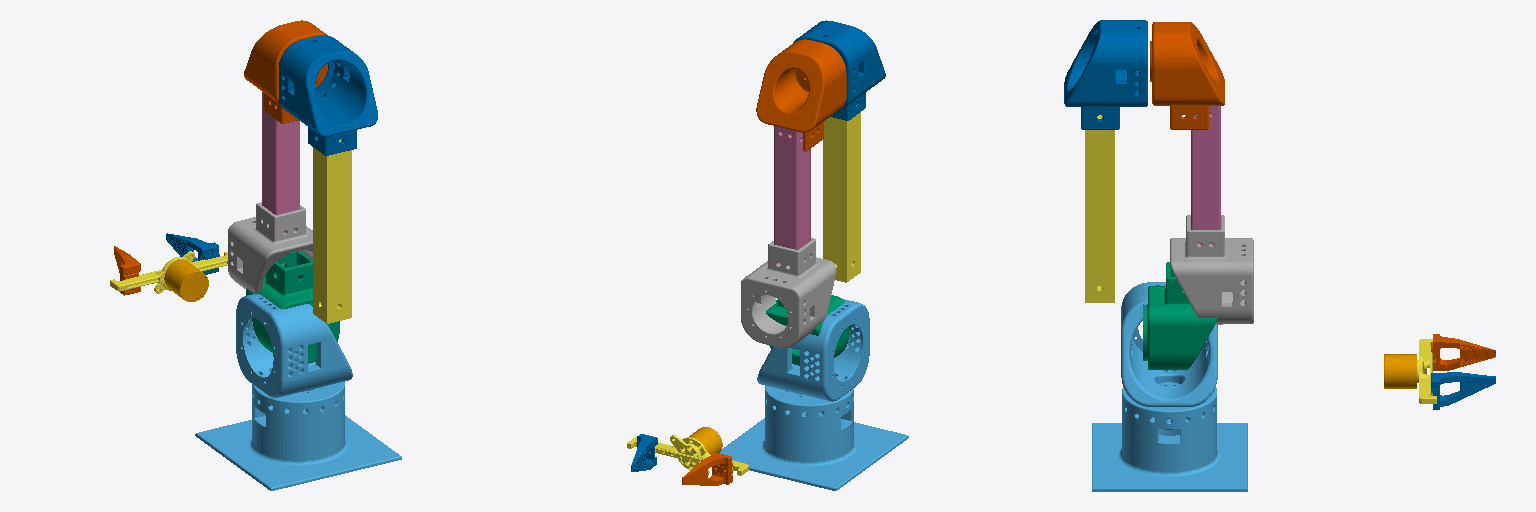
robot.urdf — my_robot_with_cage:
<?xml version='1.0' encoding='utf-8'?>
<robot name="my_robot_with_cage">
  
  <link name="cage">
    <inertial>
      <origin xyz="0 0 0.5" rpy="0 0 0" />
      <mass value="1.0" />
      <inertia ixx="0.177000" ixy="0.000000" ixz="0.000000" iyy="0.177000" iyz="0.000000" izz="0.187000" />
    </inertial>
    <visual>
      <origin xyz="0 0 0" rpy="0 0 0" />
      <geometry>
        <mesh filename="package://sim/meshes/Cage.stl" scale="0.001 0.001 0.001" />
      </geometry>
    </visual>
    <collision>
      <origin xyz="0 0 0" rpy="0 0 0" />
      <geometry>
        <mesh filename="package://sim/meshes/Cage.stl" scale="0.001 0.001 0.001" />
      </geometry>
    </collision>
  </link>

  <link name="base">
    <inertial>
      <origin xyz="-0.000002 0.000000 0.035386" rpy="0 0 0"/>
      <mass value="0.685513"/>
      <inertia ixx="0.002363" ixy="-0.000000" ixz="0.000000" iyy="0.002295" iyz="-0.000000" izz="0.003326"/>
    </inertial>
    <visual>
      <geometry>
        <mesh filename="package://sim/meshes/base.stl" scale="0.001 0.001 0.001" />
      </geometry>
    </visual>
    <collision>
      <geometry>
        <mesh filename="package://sim/meshes/base.stl" scale="0.001 0.001 0.001" />
      </geometry>
    </collision>
  </link>

  <link name="rs02_1">
    <inertial>
      <origin xyz="0.000000000000 0.000000000000 -0.018300000000" rpy="0 0 0" />
      <mass value="0.411618" />
      <inertia ixx="0.000201" ixy="0.000000" ixz="0.000000" iyy="0.000200" iyz="0.000000" izz="0.000287" />
    </inertial>
    <visual>
      <geometry>
        <mesh filename="package://sim/meshes/RS02(0.0.0).stl" scale="0.001 0.001 0.001" />
      </geometry>
    </visual>
    <collision>
      <geometry>
        <mesh filename="package://sim/meshes/RS02(0.0.0).stl" scale="0.001 0.001 0.001" />
      </geometry>
    </collision>
  </link>

  <link name="rs02_2">
    <inertial>
      <origin xyz="0.000000000000 0.000000000000 -0.018300000000" rpy="0 0 0" />
      <mass value="0.411618" />
      <inertia ixx="0.000201" ixy="0.000000" ixz="0.000000" iyy="0.000200" iyz="0.000000" izz="0.000287" />
    </inertial>
    <visual>
      <geometry>
        <mesh filename="package://sim/meshes/RS02(0.0.0).stl" scale="0.001 0.001 0.001" />
      </geometry>
    </visual>
    <collision>
      <geometry>
        <mesh filename="package://sim/meshes/RS02(0.0.0).stl" scale="0.001 0.001 0.001" />
      </geometry>
    </collision>
  </link>

  <link name="rs02_3">
    <inertial>
      <origin xyz="0.000000000000 0.000000000000 -0.018300000000" rpy="0 0 0" />
      <mass value="0.411618" />
      <inertia ixx="0.000201" ixy="0.000000" ixz="0.000000" iyy="0.000200" iyz="0.000000" izz="0.000287" />
    </inertial>
    <visual>
      <geometry>
        <mesh filename="package://sim/meshes/RS02(0.0.0).stl" scale="0.001 0.001 0.001" />
      </geometry>
    </visual>
    <collision>
      <geometry>
        <mesh filename="package://sim/meshes/RS02(0.0.0).stl" scale="0.001 0.001 0.001" />
      </geometry>
    </collision>
  </link>

  <link name="rs03">
    <inertial>
      <origin xyz="0.000000000000 0.000000000000 -0.021500000000" rpy="0 0 0" />
      <mass value="0.924357" />
      <inertia ixx="0.000880" ixy="-0.000001" ixz="-0.000007" iyy="0.000920" iyz="-0.000001" izz="0.001201" />
    </inertial>
    <visual>
      <geometry>
        <mesh filename="package://sim/meshes/RS03(0.0.0).stl" scale="0.001 0.001 0.001" />
      </geometry>
    </visual>
    <collision>
      <geometry>
        <mesh filename="package://sim/meshes/RS03(0.0.0).stl" scale="0.001 0.001 0.001" />
      </geometry>
    </collision>
  </link>

  <link name="rs00_1">
    <inertial>
      <origin xyz="0.000000000000 0.000000000000 -0.020800000000" rpy="0 0 0" />
      <mass value="0.311841" />
      <inertia ixx="0.000130" ixy="0.000000" ixz="0.000000" iyy="0.000129" iyz="0.000000" izz="0.000127" />
    </inertial>
    <visual>
      <geometry>
        <mesh filename="package://sim/meshes/RS00.stl" scale="0.001 0.001 0.001" />
      </geometry>
    </visual>
    <collision>
      <geometry>
        <mesh filename="package://sim/meshes/RS00.stl" scale="0.001 0.001 0.001" />
      </geometry>
    </collision>
  </link>

  <link name="rs00_2">
    <inertial>
      <origin xyz="0.000000000000 0.000000000000 -0.020800000000" rpy="0 0 0" />
      <mass value="0.311841" />
      <inertia ixx="0.000130" ixy="0.000000" ixz="0.000000" iyy="0.000129" iyz="0.000000" izz="0.000127" />
    </inertial>
    <visual>
      <geometry>
        <mesh filename="package://sim/meshes/RS00.stl" scale="0.001 0.001 0.001" />
      </geometry>
    </visual>
    <collision>
      <geometry>
        <mesh filename="package://sim/meshes/RS00.stl" scale="0.001 0.001 0.001" />
      </geometry>
    </collision>
  </link>

  <link name="rs05">
    <inertial>
      <origin xyz="0.000000000000 0.000000000000 -0.018300000000" rpy="0 0 0" />
      <mass value="0.191090" />
      <inertia ixx="0.000082" ixy="0.000000" ixz="0.000000" iyy="0.000082" iyz="0.000000" izz="0.000068" />
    </inertial>
    <visual>
      <geometry>
        <mesh filename="package://sim/meshes/RS05.stl" scale="0.001 0.001 0.001" />
      </geometry>
    </visual>
    <collision>
      <geometry>
        <mesh filename="package://sim/meshes/RS05.stl" scale="0.001 0.001 0.001" />
      </geometry>
    </collision>
  </link>

  <link name="joint1">
    <inertial>
    <origin xyz="0.006324553 0.000004125 -0.057702230" rpy="0 0 0" />
    <mass value="0.639808643" />
    <inertia ixx="0.002439844" ixy="0.000000065" ixz="-0.000218516" iyy="0.001857400" iyz="0.000000217" izz="0.001602965" />
    </inertial>
    <visual>
      <geometry>
        <mesh filename="package://sim/meshes/joint1.stl" scale="0.001 0.001 0.001" />
      </geometry>
    </visual>
    <collision>
      <geometry>
        <mesh filename="package://sim/meshes/joint1.stl" scale="0.001 0.001 0.001" />
      </geometry>
    </collision>
  </link>

  <link name="link1_1">
    <inertial>
      <origin xyz="0.000000 0.022463 -0.044901" rpy="0 0 0"/>
      <mass value="0.350100"/>
      <inertia ixx="0.000685" ixy="0.000000" ixz="-0.000000" iyy="0.000466" iyz="0.000123" izz="0.000710"/>
    </inertial>
    <visual>
      <geometry>
        <mesh filename="package://sim/meshes/link1_1.stl" scale="0.001 0.001 0.001" />
      </geometry>
    </visual>
    <collision>
      <geometry>
        <mesh filename="package://sim/meshes/link1_1.stl" scale="0.001 0.001 0.001" />
      </geometry>
    </collision>
  </link>

  <link name="link1_2">
    <inertial>
      <origin xyz="0.000002 -0.000002 0.150000" rpy="0 0 0"/>
      <mass value="0.502204"/>
      <inertia ixx="0.003839" ixy="-0.000000" ixz="-0.000000" iyy="0.003839" iyz="0.000000" izz="0.000146"/>
    </inertial>
    <visual>
      <geometry>
        <mesh filename="package://sim/meshes/link1_2.stl" scale="0.001 0.001 0.001" />
      </geometry>
    </visual>
    <collision>
      <geometry>
        <mesh filename="package://sim/meshes/link1_2.stl" scale="0.001 0.001 0.001" />
      </geometry>
    </collision>
  </link>

  <link name="link1_3">
    <inertial>
    <origin xyz="-0.000000304 0.014486787 0.027724057" rpy="0 0 0" />
    <mass value="0.450128794" />
    <inertia ixx="0.001072387" ixy="-0.000000006" ixz="0.000000006" iyy="0.001151492" iyz="-0.000192517" izz="0.000811549" />
    </inertial>
    <visual>
      <geometry>
        <mesh filename="package://sim/meshes/link1_3.stl" scale="0.001 0.001 0.001" />
      </geometry>
    </visual>
    <collision>
      <geometry>
        <mesh filename="package://sim/meshes/link1_3.stl" scale="0.001 0.001 0.001" />
      </geometry>
    </collision>
  </link>

  <link name="link2_1">
    <inertial>
    <origin xyz="0.00048957 -0.01921946 -0.05115856" rpy="0 0 0" />
    <mass value="0.41732128" />
    <inertia ixx="0.0009941710" ixy="0.0000103793" ixz="0.0000048009" iyy="0.0007563042" iyz="-0.0002119752" izz="0.0007981471" />
    </inertial>
    <visual>
      <geometry>
        <mesh filename="package://sim/meshes/link2_1.stl" scale="0.001 0.001 0.001" />
      </geometry>
    </visual>
    <collision>
      <geometry>
        <mesh filename="package://sim/meshes/link2_1.stl" scale="0.001 0.001 0.001" />
      </geometry>
    </collision>
  </link>

  <link name="link2_2">
    <inertial>
      <origin xyz="0.000000 0.000000 0.115000" rpy="0 0 0"/>
      <mass value="0.154772"/>
      <inertia ixx="0.000690" ixy="0.000000" ixz="0.000000" iyy="0.000690" iyz="-0.000000" izz="0.000048"/>
    </inertial>
    <visual>
      <geometry>
        <mesh filename="package://sim/meshes/link2_2.stl" scale="0.001 0.001 0.001" />
      </geometry>
    </visual>
    <collision>
      <geometry>
        <mesh filename="package://sim/meshes/link2_2.stl" scale="0.001 0.001 0.001" />
      </geometry>
    </collision>
  </link>

  <link name="link2_3">
    <inertial>
      <mass value="0.235762"/>
      <origin xyz="0.000867 -0.015309 0.014123" rpy="0 0 0"/>
      <inertia ixx="4.807815e-04" ixy="-3.120688e-06" ixz="6.968948e-06" iyy="4.862998e-04" iyz="1.378339e-04" izz="3.670195e-04"/>
    </inertial>
    <visual>
      <geometry>
        <mesh filename="package://sim/meshes/link2_3.stl" scale="0.001 0.001 0.001" />
      </geometry>
    </visual>
    <collision>
      <geometry>
        <mesh filename="package://sim/meshes/link2_3.stl" scale="0.001 0.001 0.001" />
      </geometry>
    </collision>
  </link>

  <link name="link3_1">
    <inertial>
      <mass value="0.215857"/>
      <origin xyz="-0.000000 0.022581 -0.039749" rpy="0 0 0"/>
      <inertia ixx="4.407973e-04" ixy="3.134416e-09" ixz="-2.800818e-09" iyy="3.989994e-04" iyz="8.367770e-05" izz="4.699770e-04"/>
    </inertial>
    <visual>
      <geometry>
        <mesh filename="package://sim/meshes/link3_1.stl" scale="0.001 0.001 0.001" />
      </geometry>
    </visual>
    <collision>
      <geometry>
        <mesh filename="package://sim/meshes/link3_1.stl" scale="0.001 0.001 0.001" />
      </geometry>
    </collision>
  </link>

  <link name="link3_2">
    <inertial>
      <mass value="0.202646"/>
      <origin xyz="-0.000002 0.023258 -0.045468" rpy="0 0 0"/>
      <inertia ixx="4.181879e-04" ixy="-9.687693e-09" ixz="1.562432e-08" iyy="3.803897e-04" iyz="7.747960e-05" izz="4.499134e-04"/>
    </inertial>
    <visual>
      <geometry>
        <mesh filename="package://sim/meshes/link3_2.stl" scale="0.001 0.001 0.001" />
      </geometry>
    </visual>
    <collision>
      <geometry>
        <mesh filename="package://sim/meshes/link3_2.stl" scale="0.001 0.001 0.001" />
      </geometry>
    </collision>
  </link>

  <link name="link3_3">
    <inertial>
      <mass value="0.150350"/>
      <origin xyz="-0.000000 0.001336 -0.049766" rpy="0 0 0"/>
      <inertia ixx="2.273078e-04" ixy="-1.354672e-11" ixz="2.489983e-09" iyy="2.585768e-04" iyz="-6.845549e-06" izz="2.507905e-04"/>
    </inertial>
    <visual>
      <geometry>
        <mesh filename="package://sim/meshes/link3_3.stl" scale="0.001 0.001 0.001" />
      </geometry>
    </visual>
    <collision>
      <geometry>
        <mesh filename="package://sim/meshes/link3_3.stl" scale="0.001 0.001 0.001" />
      </geometry>
    </collision>
  </link>

  <link name="gripper">
    <inertial>
      <origin xyz="-0.000002 -0.000003 -0.012058" rpy="0 0 0"/>
      <mass value="0.090928"/>
      <inertia ixx="0.000134" ixy="0.000006" ixz="-0.000000" iyy="0.000013" iyz="0.000000" izz="0.000138"/>
    </inertial>
    <visual>
      <geometry>
        <mesh filename="package://sim/meshes/gripper.stl" scale="0.001 0.001 0.001" />
      </geometry>
    </visual>
    <collision>
      <geometry>
        <mesh filename="package://sim/meshes/gripper.stl" scale="0.001 0.001 0.001" />
      </geometry>
    </collision>
  </link>

  <link name="finger_r">
    <inertial>
      <origin xyz="0.000928 0.006623 -0.011072" rpy="0 0 0"/>
      <mass value="0.030964"/>
      <inertia ixx="0.000011" ixy="0.000000" ixz="-0.000000" iyy="0.000012" iyz="0.000003" izz="0.000006"/>
    </inertial>
    <visual>
      <geometry>
        <mesh filename="package://sim/meshes/finger_r.stl" scale="0.001 0.001 0.001" />
      </geometry>
    </visual>
    <collision>
      <geometry>
        <mesh filename="package://sim/meshes/finger_r.stl" scale="0.001 0.001 0.001" />
      </geometry>
    </collision>
  </link>

  <link name="finger_l">
    <inertial>
      <origin xyz="-0.000923 -0.006623 -0.011072" rpy="0 0 0"/>
      <mass value="0.030964"/>
      <inertia ixx="0.000011" ixy="0.000000" ixz="0.000000" iyy="0.000012" iyz="-0.000003" izz="0.000006"/>
    </inertial>
    <visual>
      <geometry>
        <mesh filename="package://sim/meshes/finger_l.stl" scale="0.001 0.001 0.001" />
      </geometry>
    </visual>
    <collision>
      <geometry>
        <mesh filename="package://sim/meshes/finger_l.stl" scale="0.001 0.001 0.001" />
      </geometry>
    </collision>
  </link>

  <joint name="cage_to_base" type="fixed">
    <parent link="cage" />
    <child link="base" />
    <origin xyz="0 0 0.03" rpy="0 0 0" />
  </joint>
  <joint name="m1" type="fixed">
    <parent link="base" />
    <child link="rs02_1" />
    <origin xyz="0 0 0.1002" rpy="0 0 1.570796" />
  </joint>
  <joint name="j1" type="revolute">
    <parent link="rs02_1" />
    <child link="joint1" />
    <origin xyz="0 0 0" rpy="3.14159 0 0" />
    <axis xyz="0 0 1" />
    <limit lower="-3.14159" upper="3.14159" effort="50" velocity="100" />
  </joint>
  <joint name="m2" type="fixed">
    <parent link="joint1" />
    <child link="rs03" />
    <origin xyz="-0.0362 0 -0.0893" rpy="1.5708 0 -1.5708" />
  </joint>
  <joint name="j2" type="revolute">
    <parent link="rs03" />
    <child link="link1_1" />
    <origin xyz="0 0 0" rpy="3.1415926 0 0" />
    <axis xyz="0 0 1" />
    <limit lower="-1.78" upper="1.78" effort="50" velocity="100" />
  </joint>
  <joint name="j2_2" type="fixed">
    <parent link="link1_1" />
    <child link="link1_2" />
    <origin xyz="0 0.05 -0.05715" rpy="-1.5708 0 0" />
  </joint>
  <joint name="j2_3" type="fixed">
    <parent link="link1_2" />
    <child link="link1_3" />
    <origin xyz="0 0 0.3" rpy="0 0 3.1415926" />
  </joint>
  <joint name="m3" type="fixed">
    <parent link="link1_3" />
    <child link="rs02_2" />
    <origin xyz="0 0.06735 0.050" rpy="-1.5708 0 0" />
  </joint>
  <joint name="j3" type="revolute">
    <parent link="rs02_2" />
    <child link="link2_1" />
    <origin xyz="0 0 0" rpy="3.1415926 0 0" />
    <axis xyz="0 0 1" />
    <limit lower="-3.14159" upper="3.14159" effort="50" velocity="100" />
  </joint>
  <joint name="j3_2" type="fixed">
    <parent link="link2_1" />
    <child link="link2_2" />
    <origin xyz="0 -0.050 -0.07465" rpy="1.5708 0 0" />
  </joint>
  <joint name="j3_3" type="fixed">
    <parent link="link2_2" />
    <child link="link2_3" />
    <origin xyz="0 0 0.23" rpy="0 0 0" />
  </joint>
  <joint name="m4" type="fixed">
    <parent link="link2_3" />
    <child link="rs02_3" />
    <origin xyz="0 -0.06585 0.05" rpy="1.5708 0 0" />
  </joint>
  <joint name="j4" type="revolute">
    <parent link="rs02_3" />
    <child link="link3_1" />
    <origin xyz="0 0 0" rpy="0 3.14159 0" />
    <axis xyz="0 0 1" />
    <limit lower="-3.14159" upper="3.14159" effort="50" velocity="100" />
  </joint>
  <joint name="m5" type="fixed">
    <parent link="link3_1" />
    <child link="rs00_1" />
    <origin xyz="0 0.0724 -0.053" rpy="-1.5708 0 0" />
  </joint>
  <joint name="j5" type="revolute">
    <parent link="rs00_1" />
    <child link="link3_2" />
    <origin xyz="0 0 0" rpy="0 3.14159 0" />
    <axis xyz="0 0 1" />
    <limit lower="-3.14159" upper="3.14159" effort="50" velocity="100" />
  </joint>
  <joint name="m6" type="fixed">
    <parent link="link3_2" />
    <child link="rs00_2" />
    <origin xyz="0 0.0724 -0.058" rpy="-1.5708 0 0" />
  </joint>
  <joint name="j6" type="revolute">
    <parent link="rs00_2" />
    <child link="link3_3" />
    <origin xyz="0 0 0" rpy="0 3.141592 3.141592" />
    <axis xyz="0 0 1" />
    <limit lower="-3.14159" upper="3.14159" effort="50" velocity="100" />
  </joint>
  <joint name="m7" type="fixed">
    <parent link="link3_3" />
    <child link="rs05" />
    <origin xyz="0 0 -0.093" rpy="0 3.141592 1.570791" />
  </joint>
  <joint name="gripper_base" type="fixed">
    <parent link="rs05" />
    <child link="gripper" />
    <origin xyz="0 0 0" rpy="0 3.14159 0" />
  </joint>
  <joint name="finger_r" type="prismatic">
    <parent link="gripper" />
    <child link="finger_r" />
    <origin xyz="0 -0.06475 -0.0218" rpy="0 0 0" />
    <axis xyz="0 1 0" />
    <limit lower="0" upper="0.0447" effort="50" velocity="100" />
  </joint>
  <joint name="finger_l" type="prismatic">
    <parent link="gripper" />
    <child link="finger_l" />
    <origin xyz="0 0.06475 -0.0218" rpy="0 0 0" />
    <axis xyz="0 -1 0" />
    <limit lower="0" upper="0.05" effort="50" velocity="100" />
    <mimic joint="finger_r" multiplier="1.0" offset="0" />
  </joint>
</robot>

--- Render facts (derived) ---
The picture shows the robot from 3 angles, left to right: view 1: azimuth 30°, elevation 25°; view 2: azimuth 150°, elevation 25°; view 3: azimuth 270°, elevation 25°; orthographic projection.
Model my_robot_with_cage with 22 links and 21 joints (6 revolute, 2 prismatic, 13 fixed), rooted at cage, posed every joint at zero.
Visible links, largest first — view 1: base, link1_3, joint1, link1_2, link2_3, link2_2, link2_1, link1_1, rs05, gripper, finger_r, finger_l; view 2: base, link2_3, link2_1, joint1, link1_2, link2_2, link1_3, gripper, finger_l, link1_1, finger_r, rs05; view 3: base, link1_3, link2_3, link2_1, joint1, link1_2, link1_1, link2_2, finger_l, finger_r, rs05, gripper.
Link boxes in pixels (x1,y1,x2,y2): base: (195, 382, 401, 490); link1_3: (279, 35, 377, 155); joint1: (236, 294, 352, 397); link1_2: (313, 138, 351, 323); link2_3: (228, 202, 312, 293); link2_2: (262, 92, 299, 232); link2_1: (244, 20, 331, 123); link1_1: (246, 250, 339, 363); rs05: (164, 260, 208, 301); gripper: (110, 251, 227, 293); finger_r: (166, 233, 219, 274); finger_l: (114, 246, 140, 295); base: (720, 386, 908, 490); link2_3: (741, 238, 836, 347); link2_1: (756, 39, 846, 151); joint1: (757, 299, 869, 401); link1_2: (823, 112, 860, 282); link2_2: (774, 126, 810, 266); link1_3: (793, 20, 885, 120); gripper: (627, 435, 748, 475); finger_l: (682, 453, 732, 485); link1_1: (766, 295, 848, 365); finger_r: (631, 434, 657, 471); rs05: (687, 427, 722, 454); base: (1092, 387, 1247, 491); link1_3: (1064, 20, 1147, 129); link2_3: (1170, 215, 1253, 324); link2_1: (1150, 22, 1224, 129); joint1: (1121, 282, 1217, 406); link1_2: (1085, 115, 1114, 302); link1_1: (1143, 262, 1217, 369); link2_2: (1191, 106, 1220, 244); finger_l: (1431, 334, 1495, 370); finger_r: (1431, 372, 1495, 409); rs05: (1384, 354, 1416, 388); gripper: (1417, 339, 1436, 403).
Bounding box of the posed robot: 0.21 × 0.5797 × 0.6395 m (x, y, z).
12 mesh visuals loaded from 19 distinct referenced files (12 binary STL); not drawn: 10 (reference not matched to a file when rendering).
